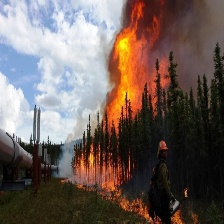fire: (104, 1, 167, 122), (60, 140, 150, 221)
smoke: (170, 1, 224, 86)
